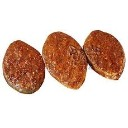seerfish: (44, 30, 87, 88), (2, 39, 45, 94), (86, 31, 126, 79)
